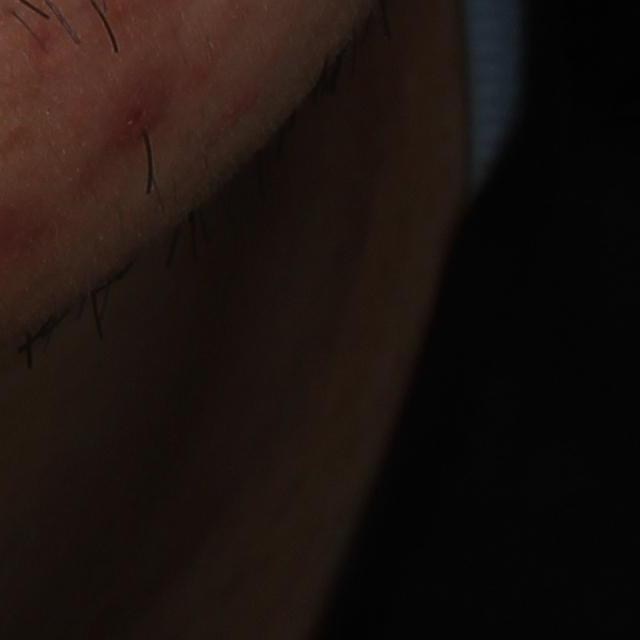papule: (110, 100, 162, 148)
